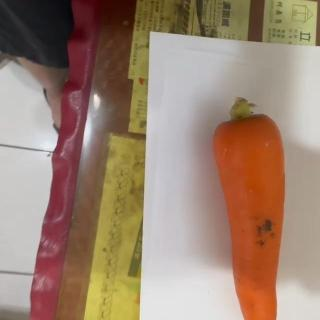carrot: (212, 97, 286, 320)
